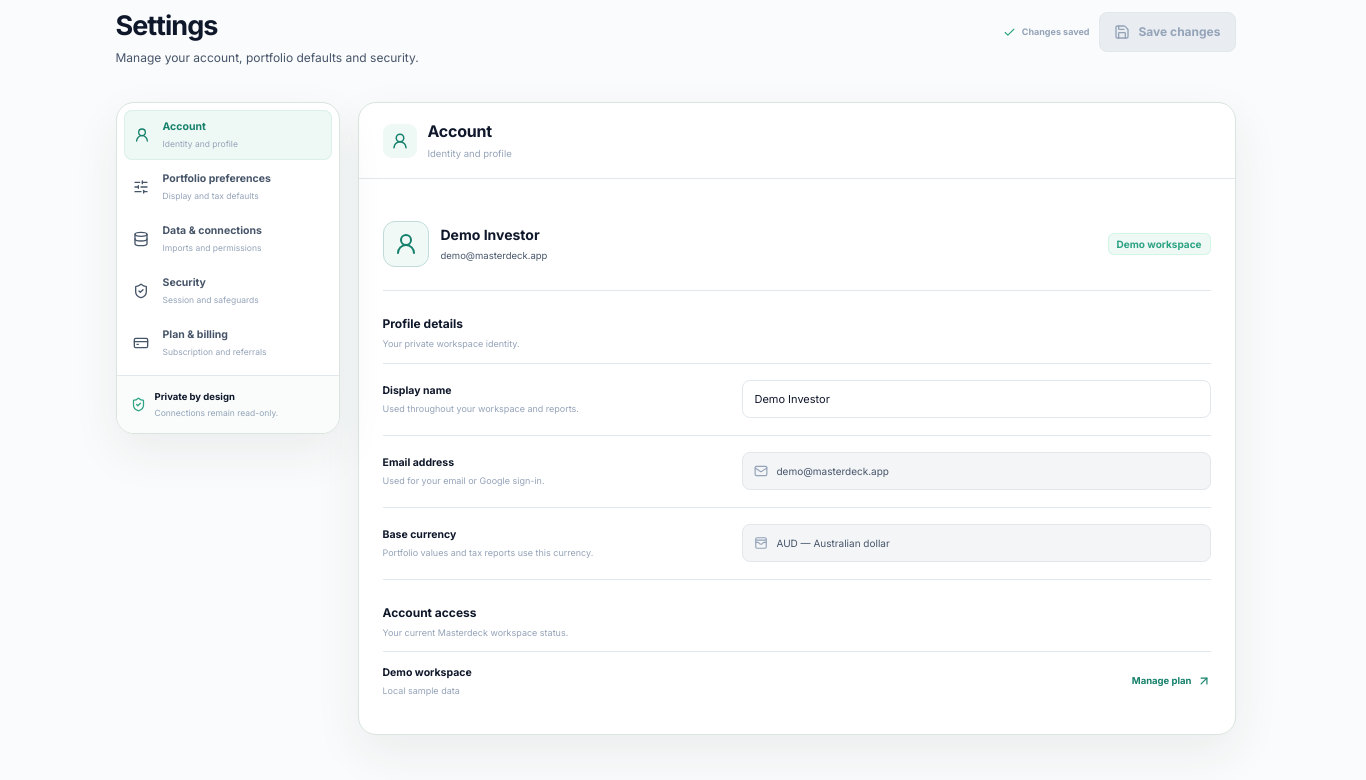
Test: settings workspace › keeps session controls separate from data permissions
Click the button "Security Session and safeguards": (228, 291) top-left (124, 266), bottom-right (332, 316)
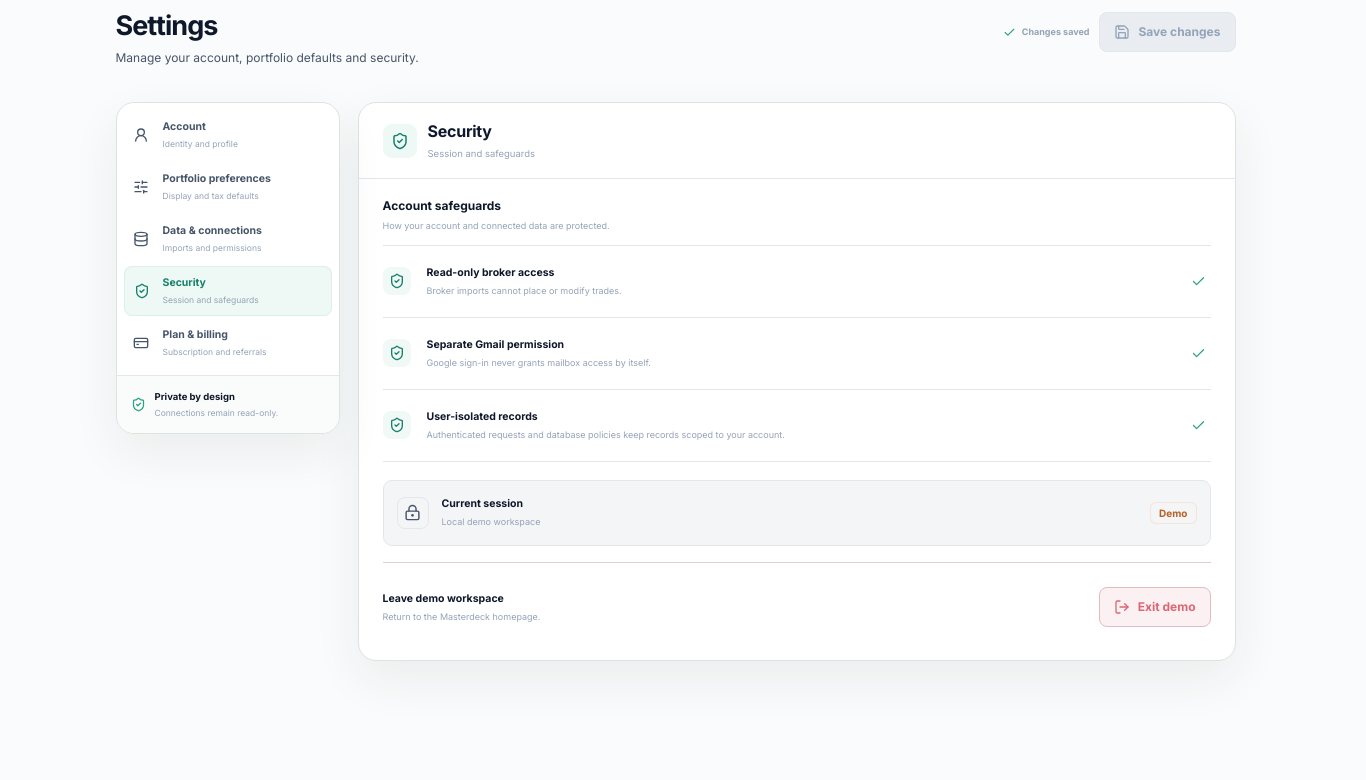
Expected: the text "Read-only broker access" is shown, top-left (426, 266), bottom-right (554, 279)
Expected: the text "Current session" is shown, top-left (442, 497), bottom-right (523, 510)
Expected: the button "Exit demo" is shown, top-left (1099, 587), bottom-right (1210, 627)
